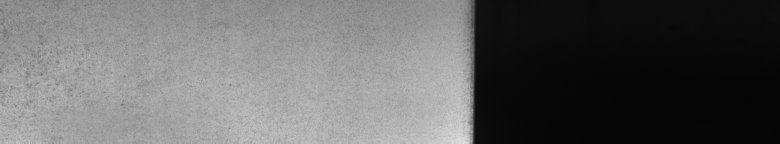ib: (4, 29, 125, 111)
